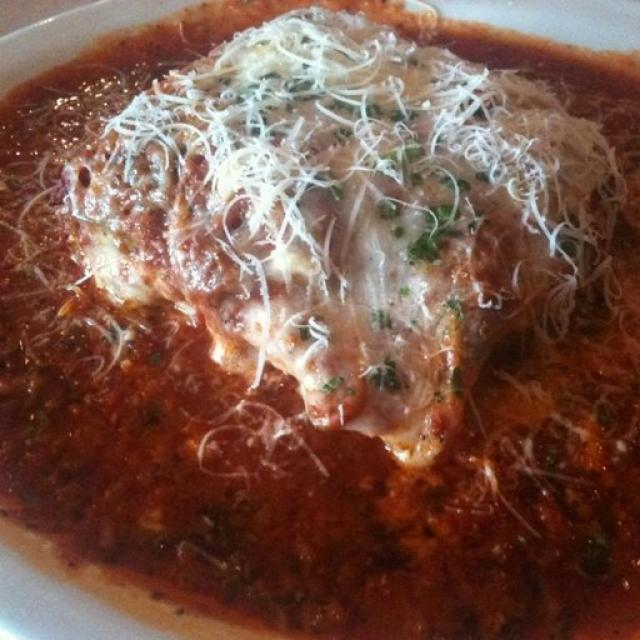Lasagna: (85, 29, 586, 423)
